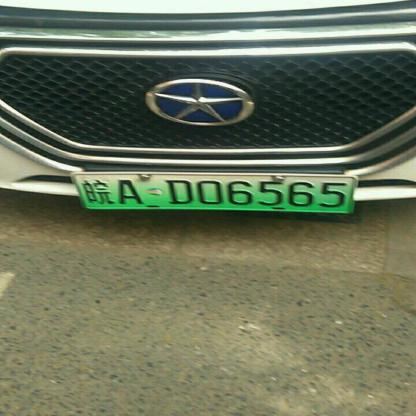lp: (70, 172, 355, 213)
